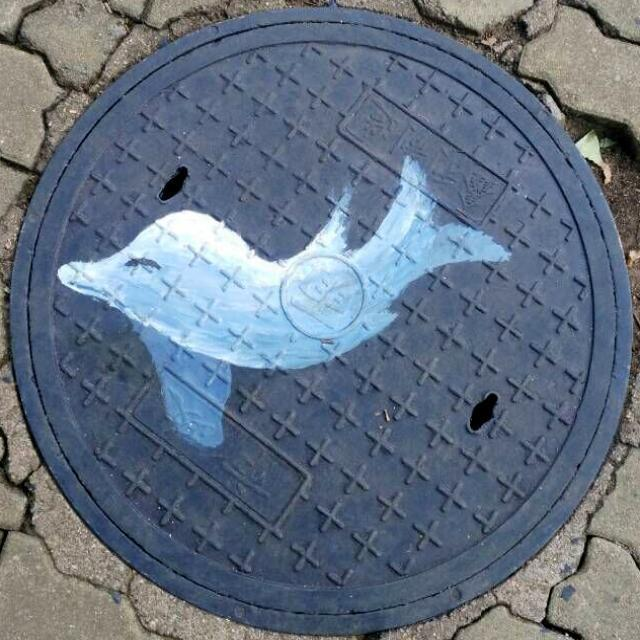manhole: (10, 6, 631, 634)
